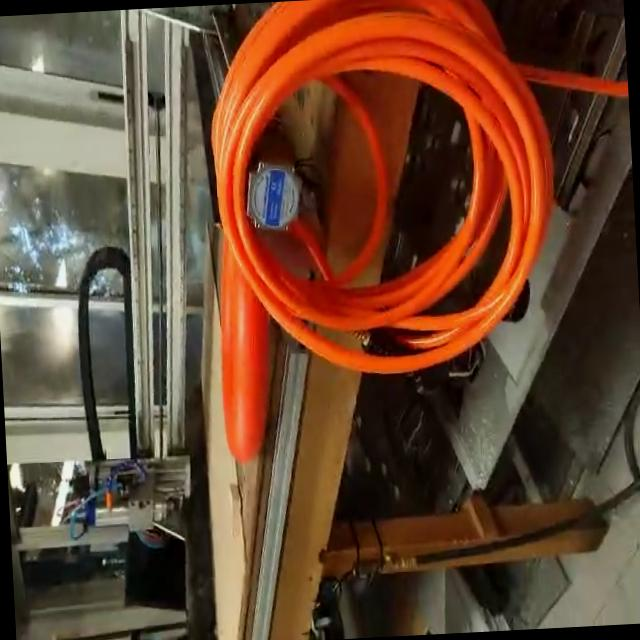note: (214, 247, 276, 462)
